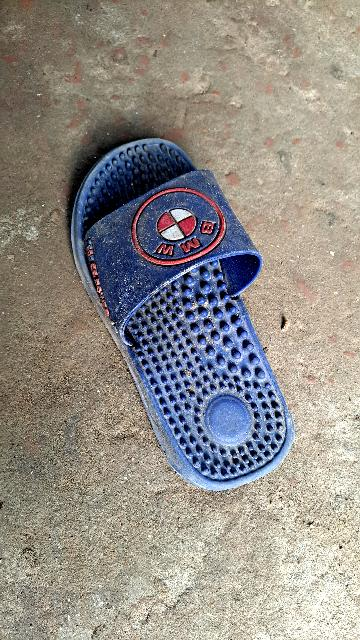sandal: (31, 96, 322, 513)
